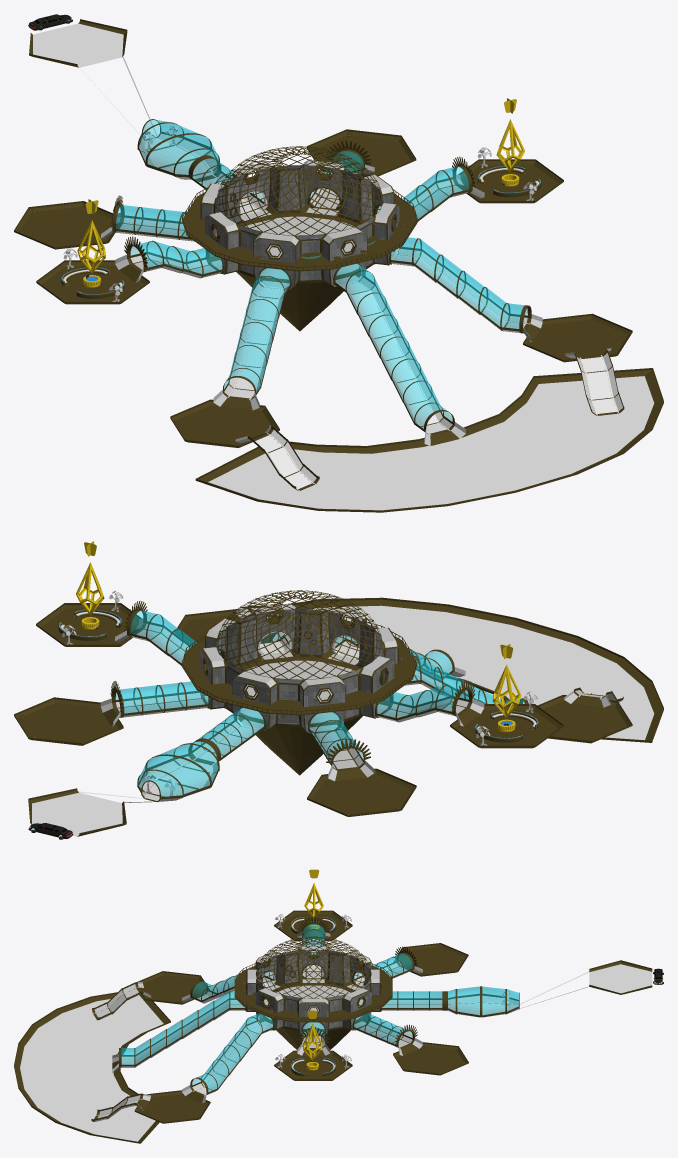
The model's file is Polys-WebXR-Theater-2023.fbx.
3 renders of one model, top to bottom at view 1: azimuth 30°, elevation 25°; view 2: azimuth 150°, elevation 25°; view 3: azimuth 270°, elevation 25°, orthographic. The views are drawn at different scales.
Visible parts, largest first — view 1: Pad 4 - 5 - 6, Walls, Tunnel 5, Dome Frame, Tunnel 6, Tunnel 4, Tunnel 1, Balcony, Pad 4, Pad Spawn, Pad 6, Pad 8 (+13 smaller); view 2: Pad 4 - 5 - 6, Walls, Dome Frame, Tunnel 1, Balcony, Pad 2, Pad 8, Pad Spawn, Tunnel 2, Tunnel 7, Pad 7, Pad 6 (+15 smaller); view 3: Pad 4 - 5 - 6, Walls, Dome Frame, Tunnel 1, Tunnel 5, Tunnel 4, Balcony, Pad Spawn, Pad 2, Pad 4, Pad 8, Pad 6 (+11 smaller).
Part boxes in pixels (box(x1,y1,x2,y2)): Pad 4 - 5 - 6: box(195, 368, 663, 512); Walls: box(200, 159, 399, 289); Tunnel 5: box(334, 263, 465, 445); Dome Frame: box(216, 146, 383, 235); Tunnel 6: box(213, 268, 290, 410); Tunnel 4: box(391, 237, 542, 342); Tunnel 1: box(137, 119, 263, 213); Balcony: box(182, 174, 417, 271); Pad 4: box(523, 313, 632, 362); Pad Spawn: box(29, 19, 127, 67); Pad 6: box(170, 399, 279, 447); Pad 8: box(14, 201, 114, 249); Pad 4 - 5 - 6: box(271, 597, 663, 742); Walls: box(200, 603, 398, 733); Dome Frame: box(216, 590, 382, 679); Tunnel 1: box(137, 708, 264, 802); Balcony: box(181, 618, 417, 715); Pad 2: box(14, 697, 123, 745); Pad 8: box(307, 768, 416, 816); Pad Spawn: box(28, 788, 126, 836); Tunnel 2: box(100, 681, 208, 726); Tunnel 7: box(376, 680, 484, 726); Pad 7: box(450, 704, 563, 748); Pad 6: box(537, 695, 632, 743); Pad 4 - 5 - 6: box(14, 992, 170, 1143); Walls: box(246, 946, 380, 1034); Dome Frame: box(256, 936, 371, 998); Tunnel 1: box(382, 986, 519, 1017); Tunnel 5: box(112, 991, 245, 1072); Tunnel 4: box(182, 1013, 273, 1103); Balcony: box(235, 955, 392, 1022); Pad Spawn: box(589, 960, 652, 994); Pad 2: box(393, 1042, 468, 1075); Pad 4: box(134, 1090, 210, 1123); Pad 8: box(393, 943, 468, 976); Pad 6: box(136, 971, 209, 1004).
Size of what is drawn, in the model's own units: 12622 by 4488 by 20550.
